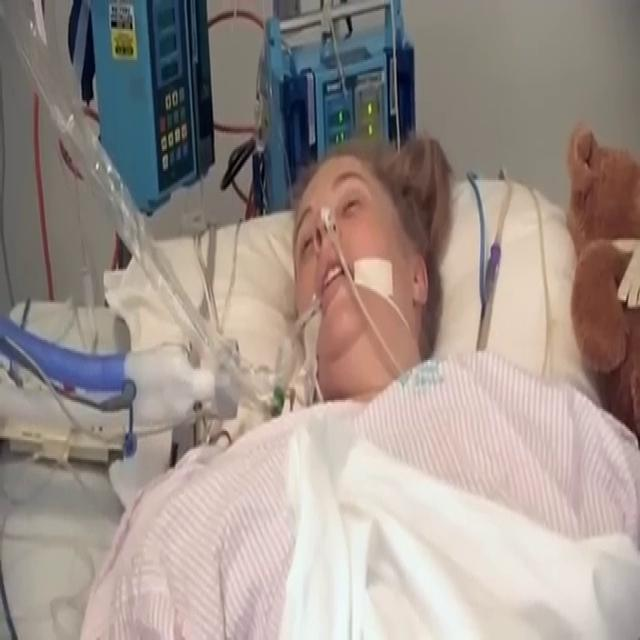monitor: (88, 0, 215, 215)
patient: (75, 129, 639, 638)
